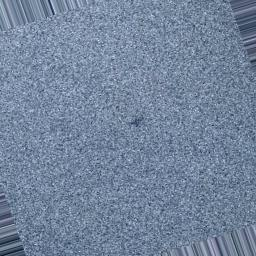Airplane: (125, 116, 146, 129)
